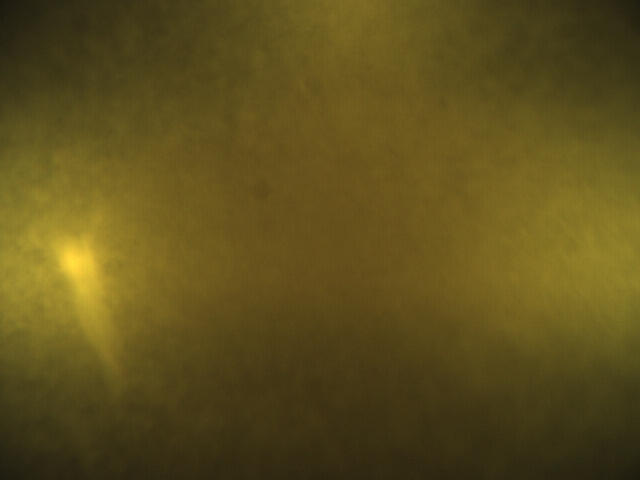shrimp: (30, 201, 172, 437)
